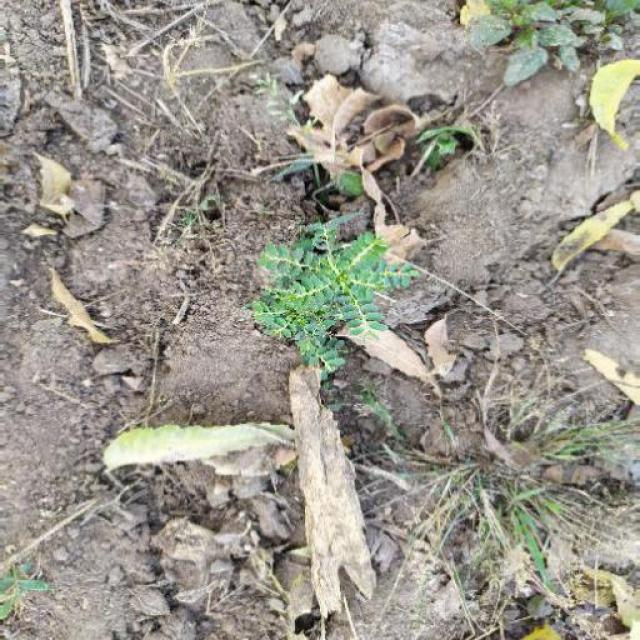weed: (381, 422, 640, 634), (248, 220, 422, 395)
